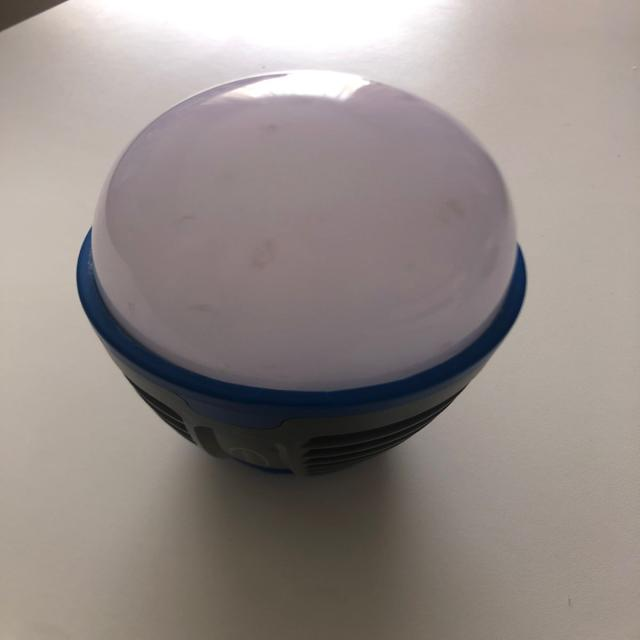Mosquito Killer: (74, 69, 529, 478)
